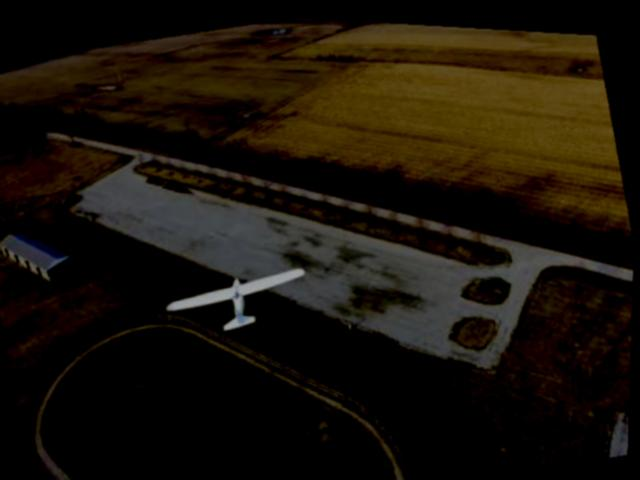uav: (152, 236, 324, 356)
